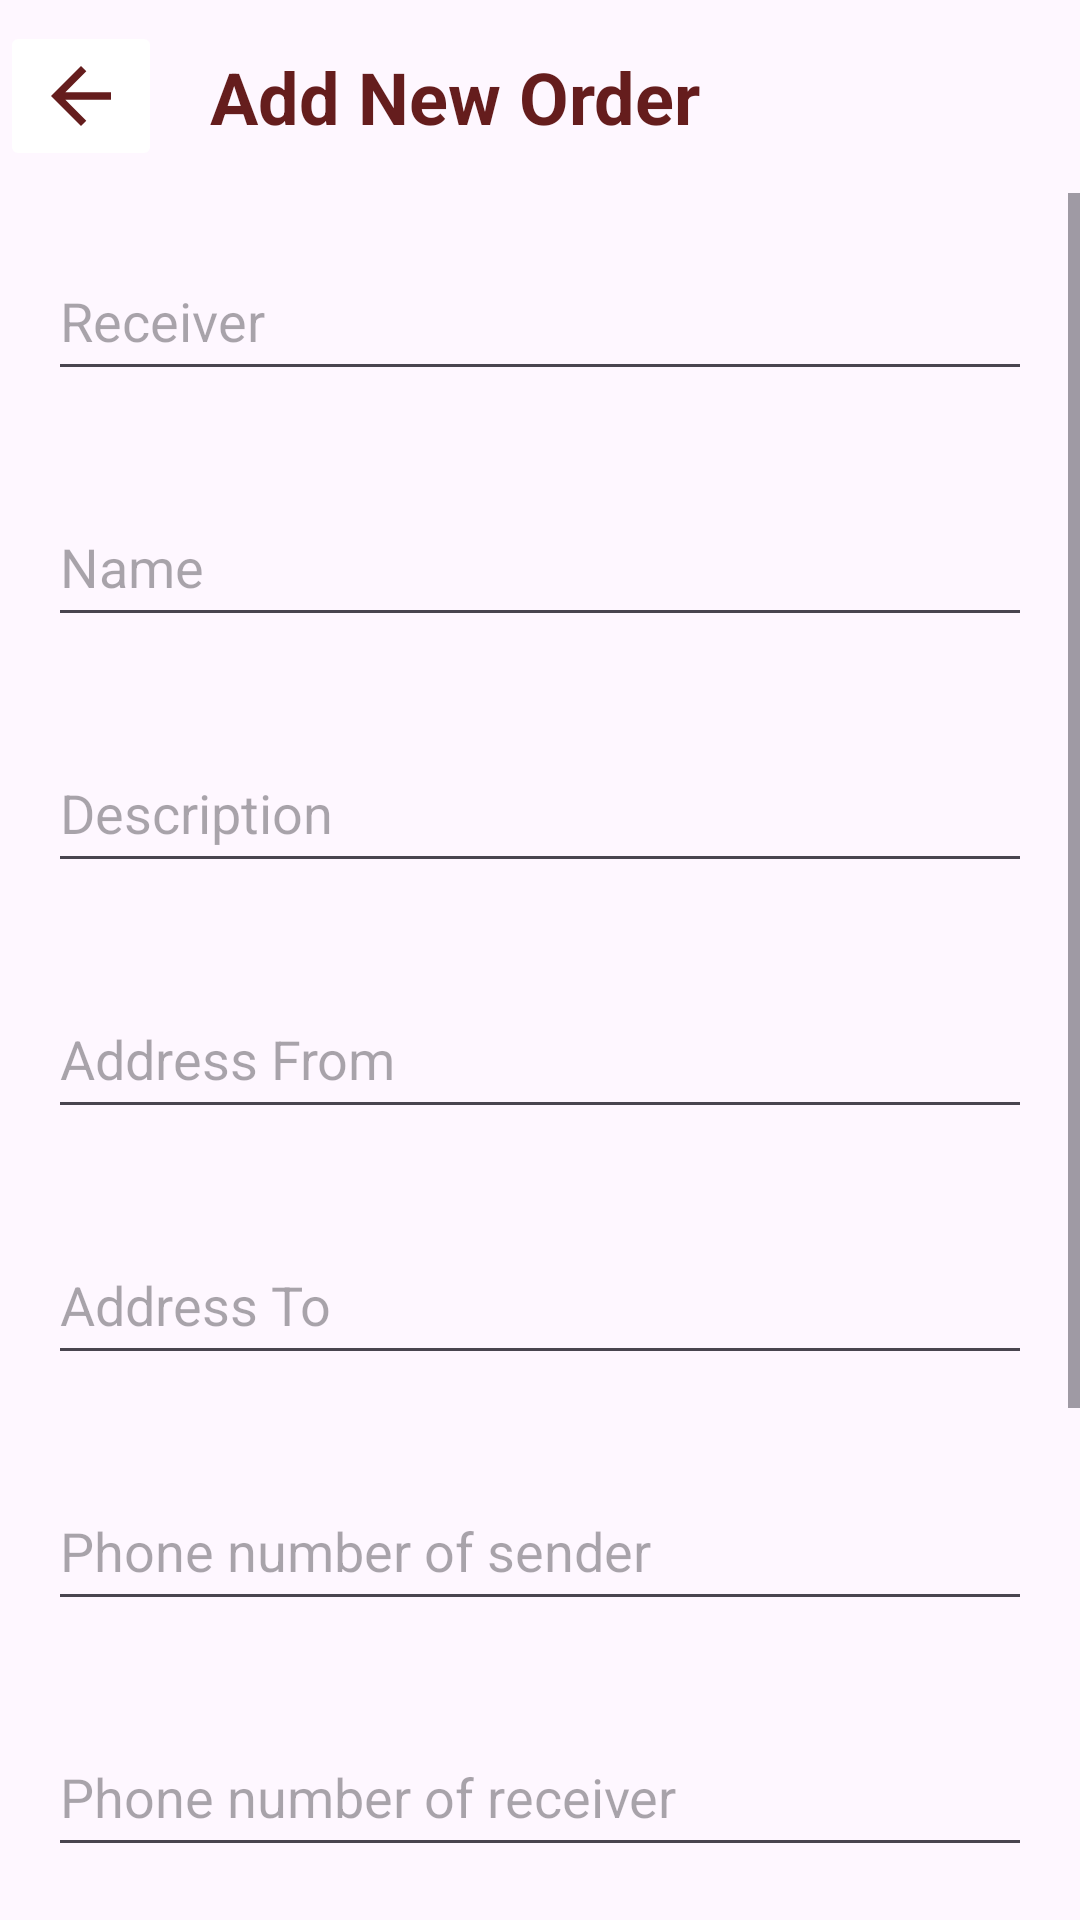

Icon click points for this 1080w x 1920h phone screenshot, format (x,y):
Back: (81,96)
